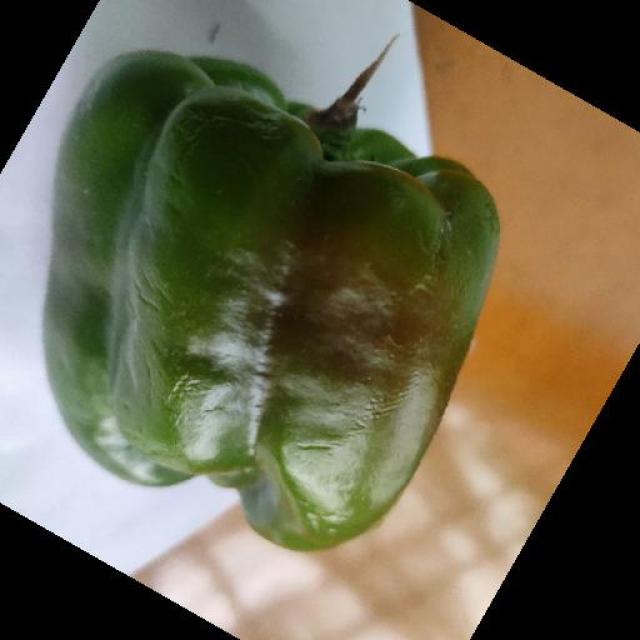Stale_Capsicum: (75, 61, 451, 538)
